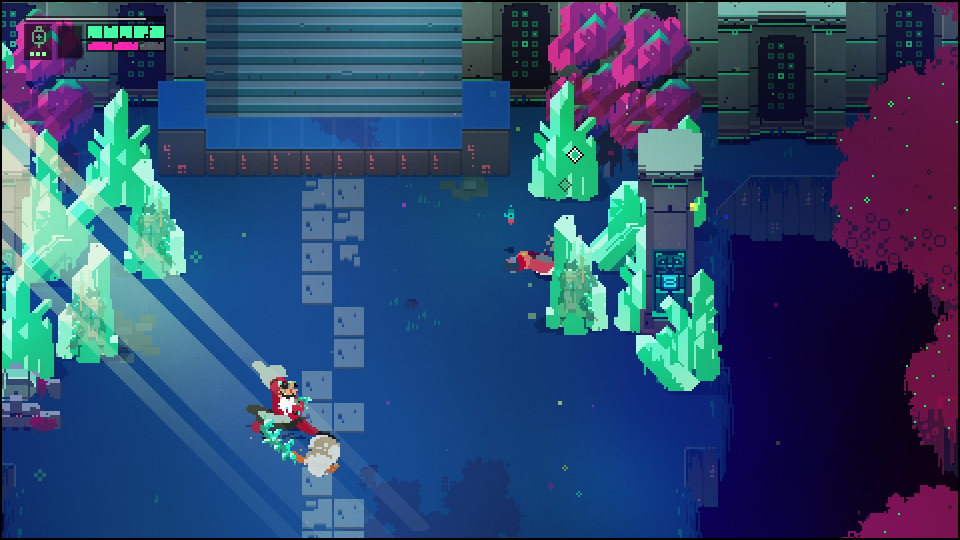hanged_man: (245, 354, 337, 475)
player: (500, 246, 559, 280)
